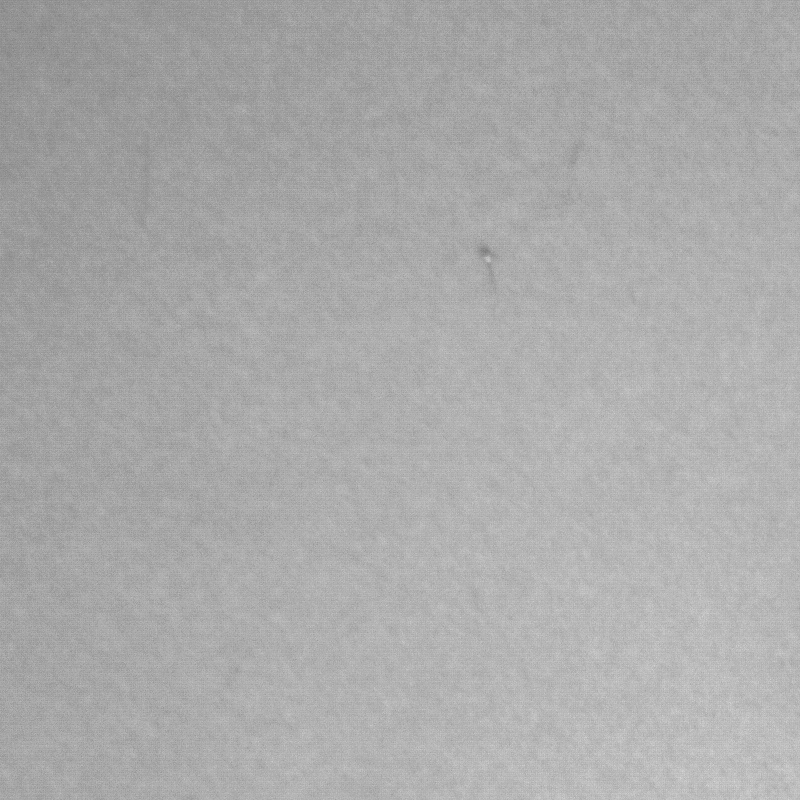defect: (473, 246, 503, 291), (569, 135, 582, 176), (145, 137, 149, 233)
